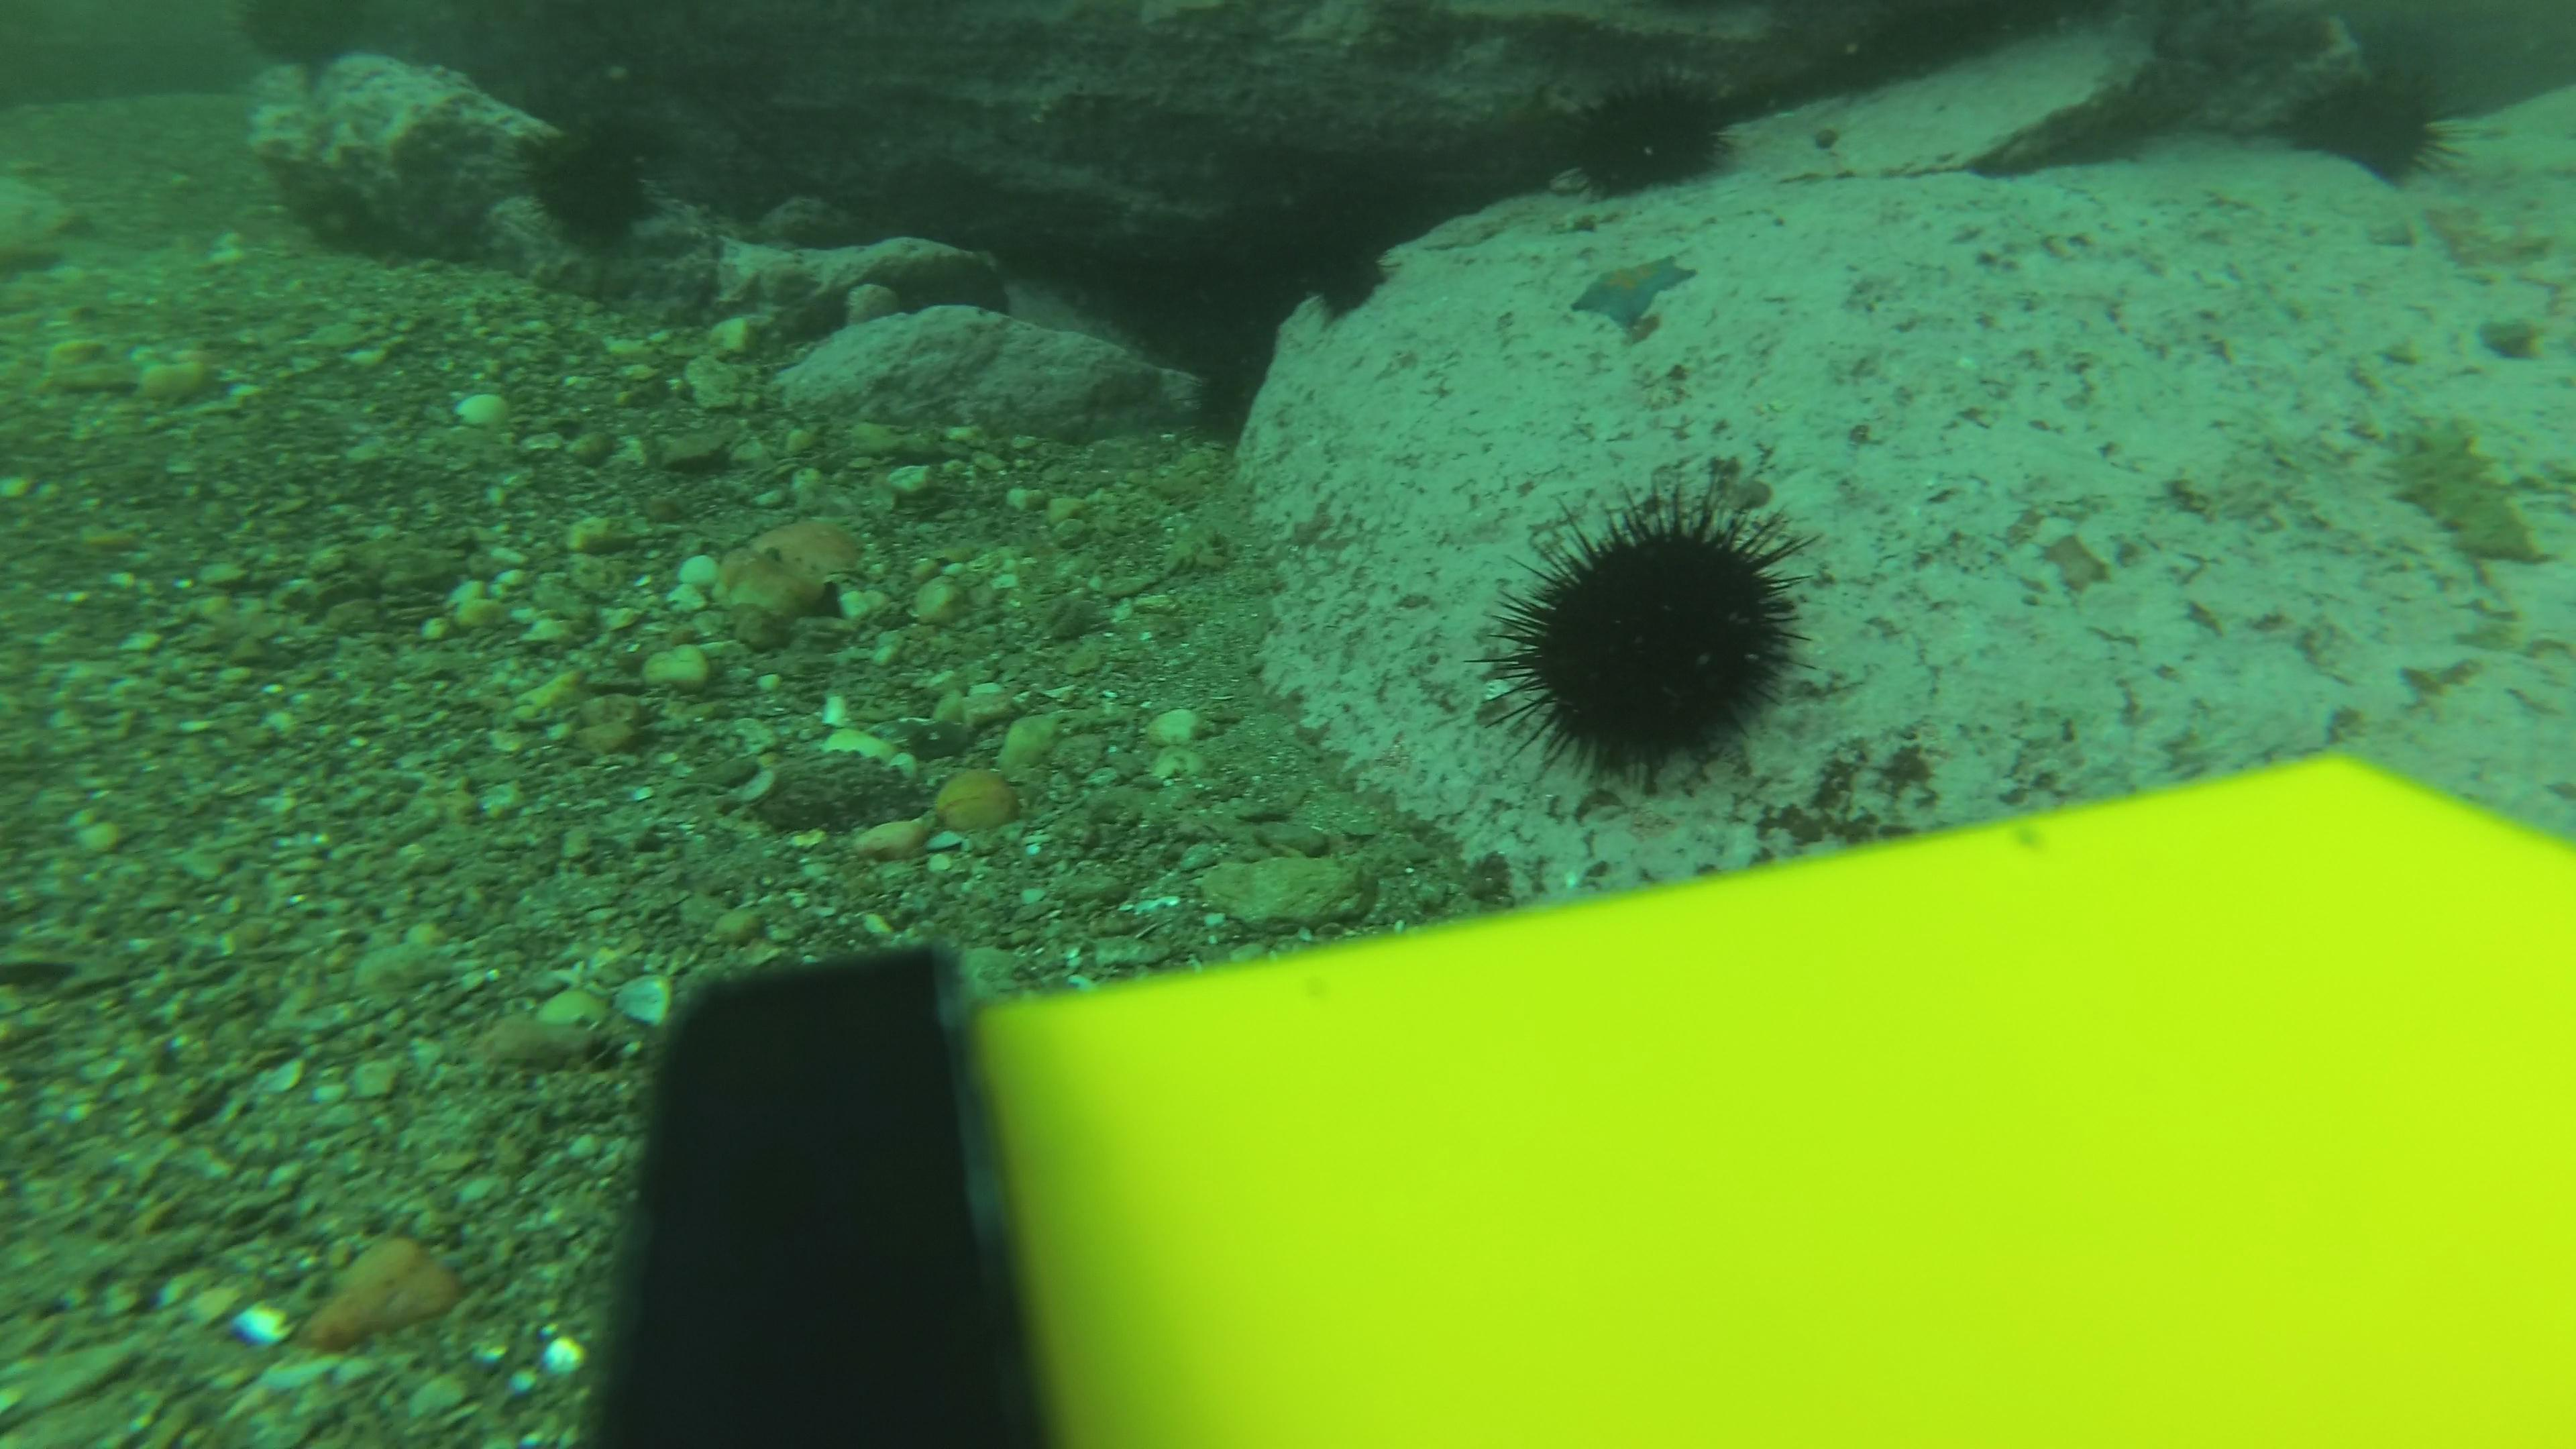urchin: (1495, 487, 1843, 782), (2292, 60, 2469, 203), (1551, 60, 1744, 165), (518, 119, 641, 243)
